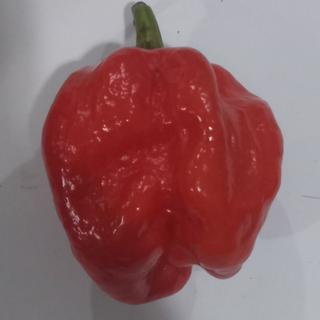Grade-B: (36, 41, 286, 307)
